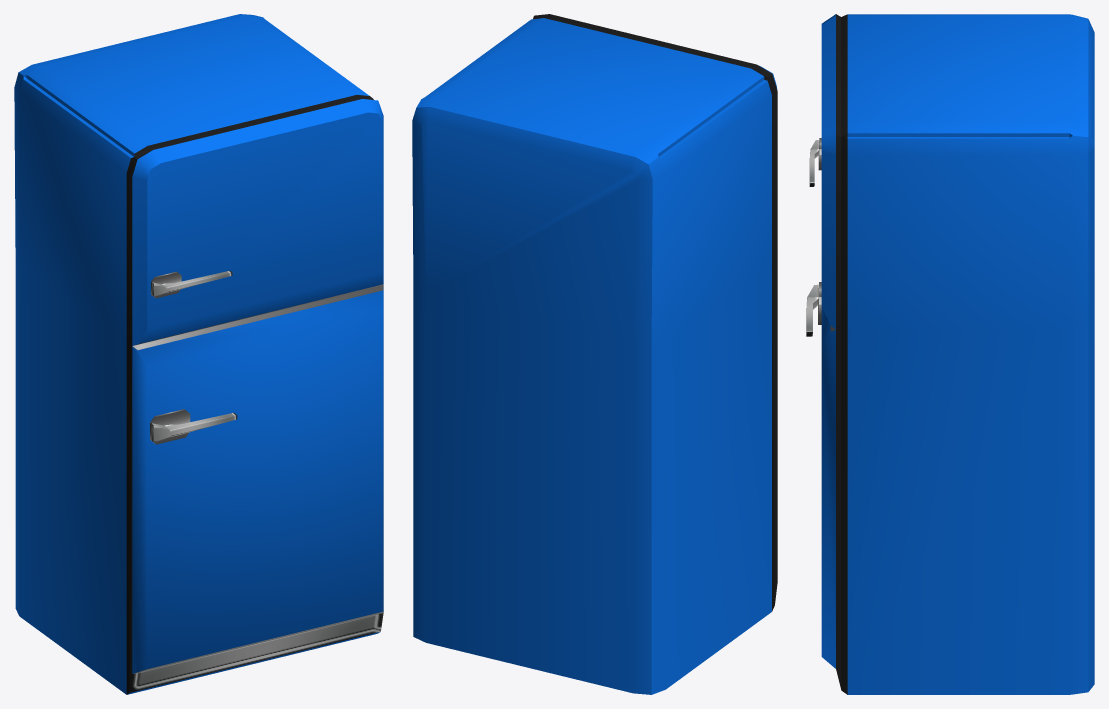
File: Fridge_06.FBX
3 renders of one model, left to right at view 1: azimuth 30°, elevation 25°; view 2: azimuth 150°, elevation 25°; view 3: azimuth 270°, elevation 25°, orthographic. The views are drawn at different scales.
Parts seen in each view (by area): view 1: Fridge; view 2: Fridge; view 3: Fridge.
Part boxes in pixels (x1=…): Fridge: x1=14, y1=14, x2=383, y2=694; Fridge: x1=412, y1=14, x2=777, y2=694; Fridge: x1=806, y1=14, x2=1094, y2=694.
Size of the model in its own units: 145 by 300 by 139.
